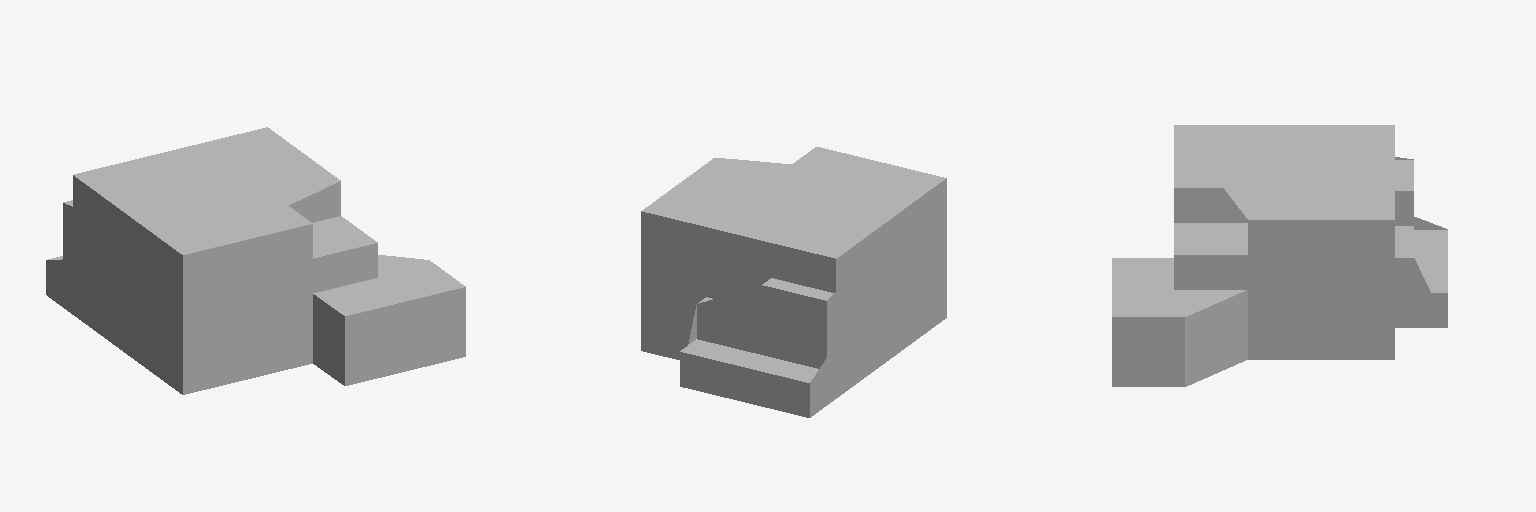
File: occ_test.obj
The picture shows the model from 3 angles: view 1: azimuth 30°, elevation 25°; view 2: azimuth 150°, elevation 25°; view 3: azimuth 270°, elevation 25°; orthographic projection.
Parts seen in each view (by area): view 1: occ_test.obj; view 2: occ_test.obj; view 3: occ_test.obj.
Boxes of the visible parts, box(x1,y1,x2,y2) form: occ_test.obj: box(46, 127, 465, 394); occ_test.obj: box(641, 147, 946, 417); occ_test.obj: box(1112, 125, 1447, 386).
Bounding box in the file's own units: 7.03 × 3.73 × 8.15.